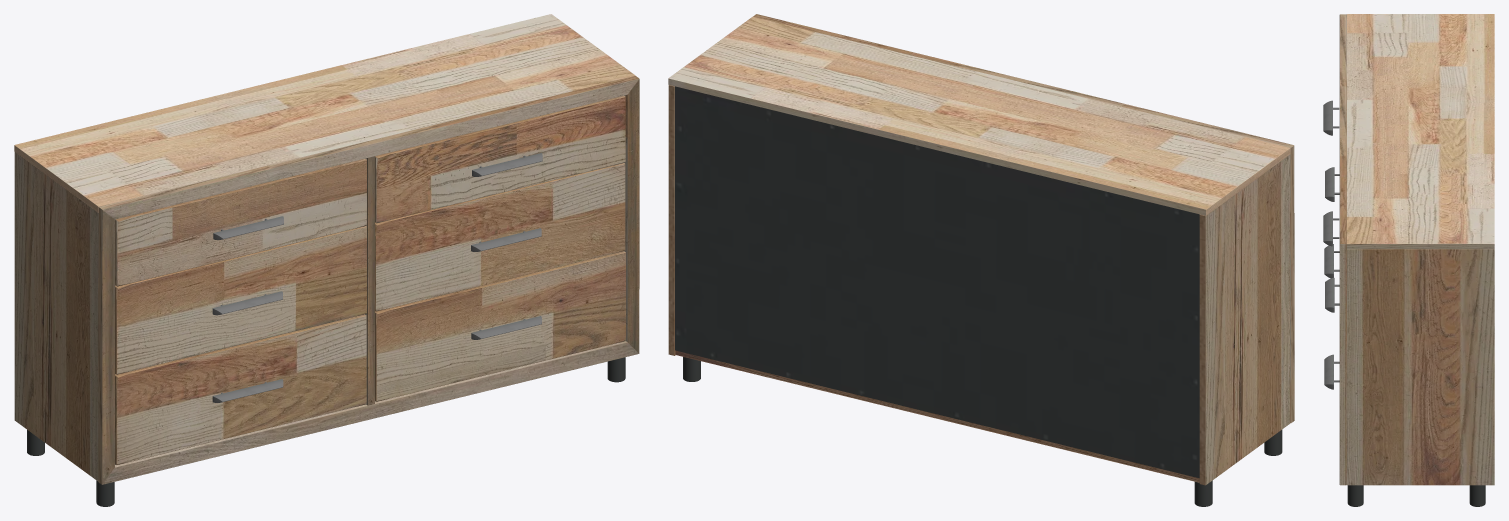
The model's file is abo-B07B4W2FKR.glb.
3 views of the same model, side by side, from view 1: azimuth 30°, elevation 25°; view 2: azimuth 150°, elevation 25°; view 3: azimuth 270°, elevation 25° (orthographic). The views are drawn at different scales.
Size of the model in its own units: 1.55 by 0.834 by 0.487.
Materials: 1 (1 with a texture image).
